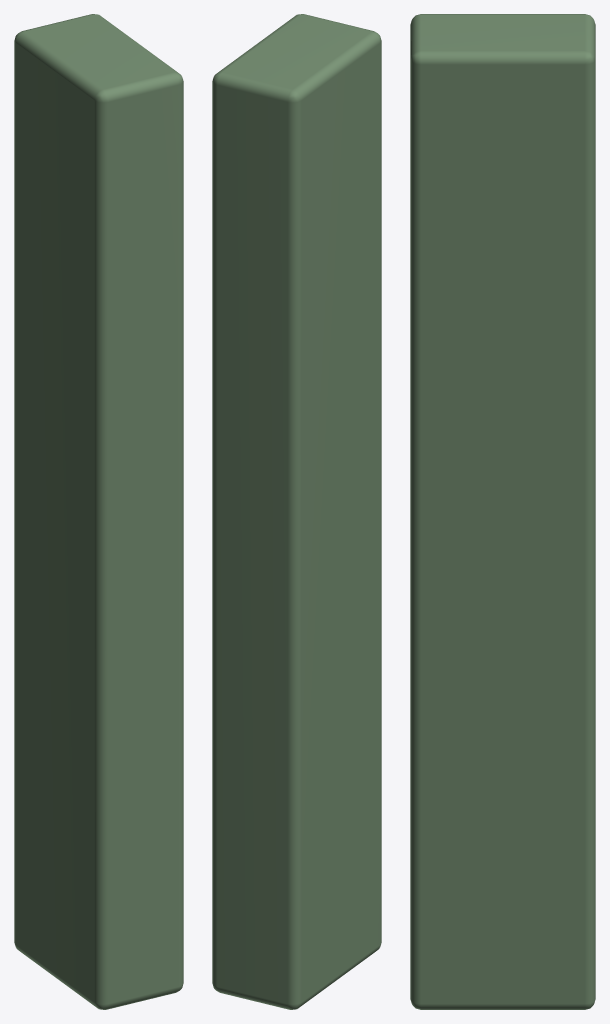
Rendered from SM_EG_Service_swing_door_bumper_e85786e97a.fbx.
3 renders of one model, left to right at view 1: azimuth 30°, elevation 25°; view 2: azimuth 150°, elevation 25°; view 3: azimuth 270°, elevation 25°, orthographic. The views are drawn at different scales.
Parts seen in each view (by area): view 1: SM_EG_Service_swing_door_bumper_e85786e97a; view 2: SM_EG_Service_swing_door_bumper_e85786e97a; view 3: SM_EG_Service_swing_door_bumper_e85786e97a.
Part boxes in pixels (box(x1,y1,x2,y2)): SM_EG_Service_swing_door_bumper_e85786e97a: box(14, 14, 183, 1009); SM_EG_Service_swing_door_bumper_e85786e97a: box(212, 14, 381, 1009); SM_EG_Service_swing_door_bumper_e85786e97a: box(410, 14, 595, 1009).
Size of what is drawn, in the model's own units: 20 by 35 by 200.
